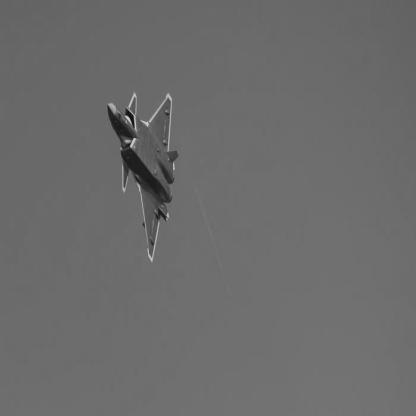J20: (108, 93, 180, 266)
